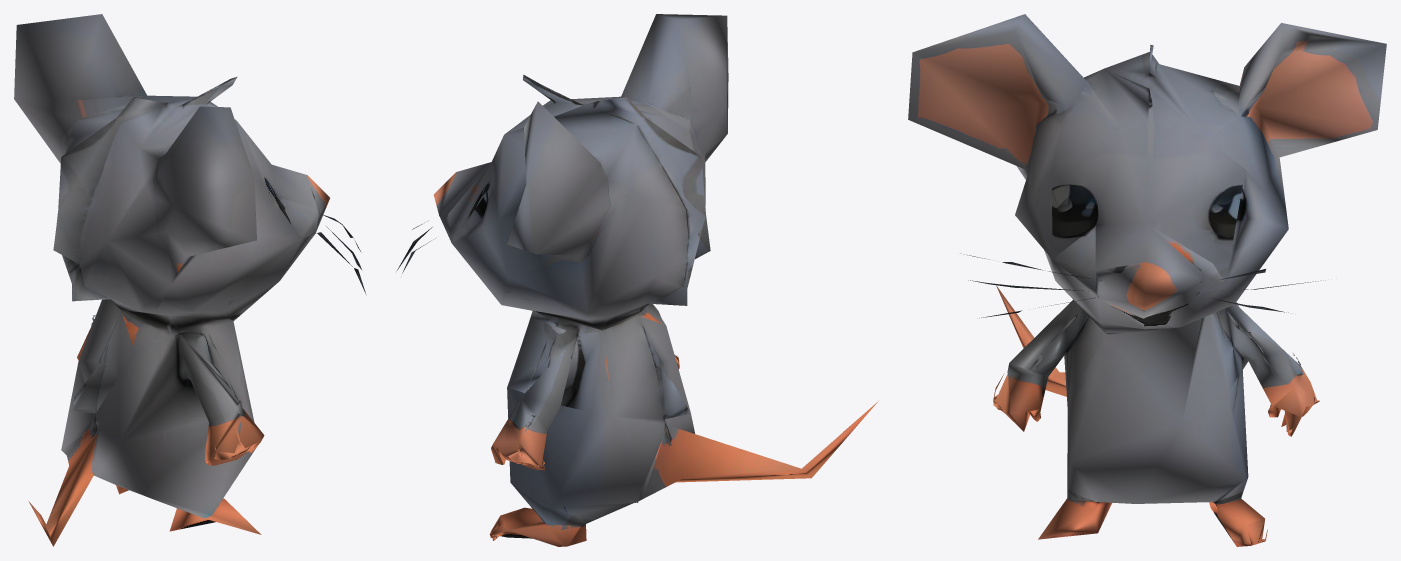
File: mouse.glb
3 views of the same model, side by side, from view 1: azimuth 30°, elevation 25°; view 2: azimuth 150°, elevation 25°; view 3: azimuth 270°, elevation 25° (orthographic). The views are drawn at different scales.
Visible parts, largest first — view 1: tripo_node_c96c22c3-4e55-49f7-9596-5fa16f55f954; view 2: tripo_node_c96c22c3-4e55-49f7-9596-5fa16f55f954; view 3: tripo_node_c96c22c3-4e55-49f7-9596-5fa16f55f954.
Boxes of the visible parts, x1,y1,x2,y2 form: tripo_node_c96c22c3-4e55-49f7-9596-5fa16f55f954: (14,14,366,546); tripo_node_c96c22c3-4e55-49f7-9596-5fa16f55f954: (396,14,878,546); tripo_node_c96c22c3-4e55-49f7-9596-5fa16f55f954: (908,14,1386,546).
Size of the model in its own units: 0.852 by 0.9975 by 0.8748.
Materials: 1 (1 with a texture image).
